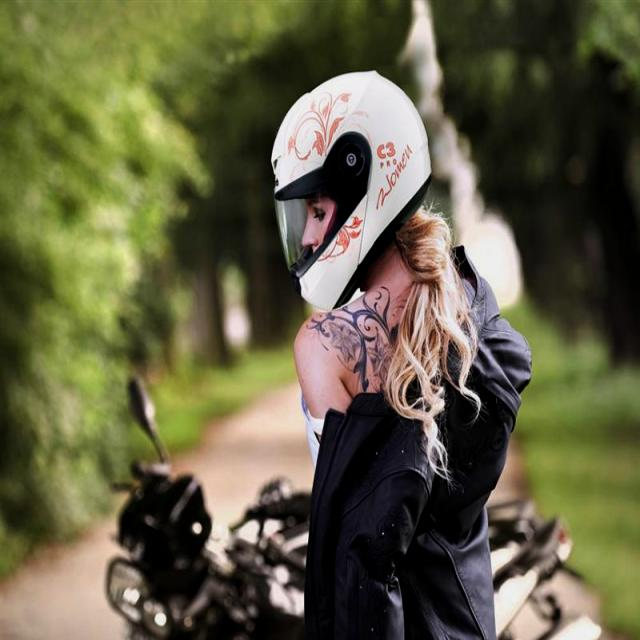helmet: (272, 71, 430, 310)
